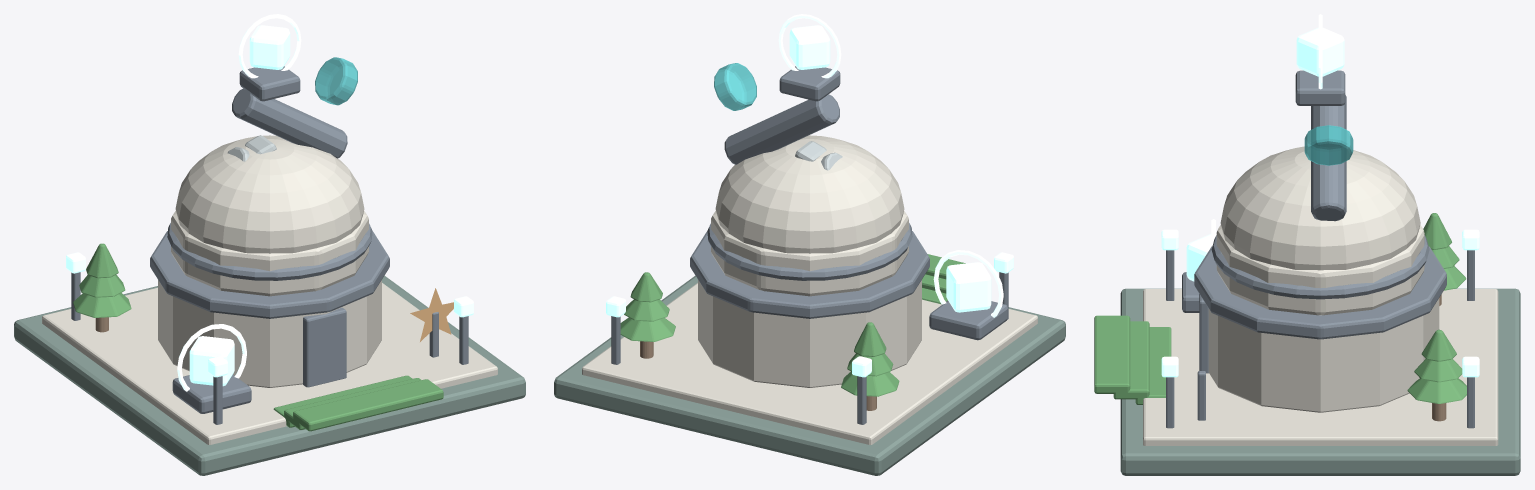
The model's file is 06-starlight-observatory.glb.
3 renders of one model, left to right at view 1: azimuth 30°, elevation 25°; view 2: azimuth 150°, elevation 25°; view 3: azimuth 270°, elevation 25°, orthographic. The views are drawn at different scales.
Parts seen in each view (by area): view 1: Observatory_Plaza, Observatory_Dome, Observatory_Plinth, Observatory_Lower, Observatory_Trim, Observatory_Upper, Observatory_Telescope, Observatory_Step_2, Observatory_Door, Observatory_DomeRim, Observatory_DataBase, Observatory_BeaconCube (+11 smaller); view 2: Observatory_Plaza, Observatory_Plinth, Observatory_Dome, Observatory_Lower, Observatory_Trim, Observatory_Upper, Observatory_Telescope, Observatory_DomeRim, Observatory_DataCube, Observatory_DataBase, Observatory_BeaconCube, Observatory_TelescopeLens (+8 smaller); view 3: Observatory_Plaza, Observatory_Plinth, Observatory_Dome, Observatory_Lower, Observatory_Trim, Observatory_Upper, Observatory_DomeRim, Observatory_Step_2, Observatory_Telescope, Observatory_BeaconCube, Observatory_TelescopeLens, Observatory_Step_1 (+12 smaller).
Part boxes in pixels (bbox=[...]): Observatory_Plaza: bbox=[42, 283, 497, 444]; Observatory_Dome: bbox=[175, 135, 364, 253]; Observatory_Plinth: bbox=[14, 275, 525, 475]; Observatory_Lower: bbox=[158, 280, 381, 387]; Observatory_Trim: bbox=[150, 231, 389, 318]; Observatory_Upper: bbox=[171, 210, 368, 296]; Observatory_Telescope: bbox=[232, 88, 347, 158]; Observatory_Step_2: bbox=[293, 379, 443, 431]; Observatory_Door: bbox=[303, 307, 346, 387]; Observatory_DomeRim: bbox=[167, 223, 372, 280]; Observatory_DataBase: bbox=[172, 374, 251, 413]; Observatory_BeaconCube: bbox=[249, 25, 290, 69]; Observatory_Plaza: bbox=[582, 283, 1037, 444]; Observatory_Plinth: bbox=[554, 275, 1065, 475]; Observatory_Dome: bbox=[715, 135, 904, 253]; Observatory_Lower: bbox=[698, 280, 921, 387]; Observatory_Trim: bbox=[690, 231, 929, 318]; Observatory_Upper: bbox=[711, 210, 908, 296]; Observatory_Telescope: bbox=[724, 94, 839, 164]; Observatory_DomeRim: bbox=[707, 223, 912, 280]; Observatory_DataCube: bbox=[946, 262, 991, 312]; Observatory_DataBase: bbox=[929, 301, 1007, 340]; Observatory_BeaconCube: bbox=[789, 25, 830, 69]; Observatory_TelescopeLens: bbox=[714, 63, 756, 110]; Observatory_Plaza: bbox=[1143, 289, 1498, 445]; Observatory_Plinth: bbox=[1120, 288, 1520, 475]; Observatory_Dome: bbox=[1220, 146, 1420, 270]; Observatory_Lower: bbox=[1208, 298, 1439, 412]; Observatory_Trim: bbox=[1194, 246, 1446, 339]; Observatory_Upper: bbox=[1216, 225, 1424, 315]; Observatory_DomeRim: bbox=[1211, 235, 1429, 299]; Observatory_Step_2: bbox=[1094, 315, 1130, 393]; Observatory_Telescope: bbox=[1311, 95, 1346, 221]; Observatory_BeaconCube: bbox=[1296, 27, 1344, 76]; Observatory_TelescopeLens: bbox=[1304, 125, 1353, 165]; Observatory_Step_1: bbox=[1113, 321, 1149, 399].
Size of the model in its own units: 5.8 by 6.02 by 6.18.
